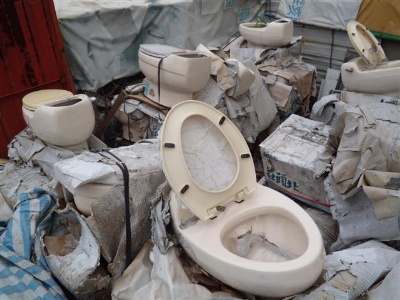box: (258, 113, 334, 214)
plastic_bag: (1, 189, 68, 300), (112, 242, 192, 300)
toilet: (158, 98, 327, 298), (21, 87, 96, 152), (139, 42, 212, 107), (340, 19, 400, 93), (237, 16, 294, 48)
